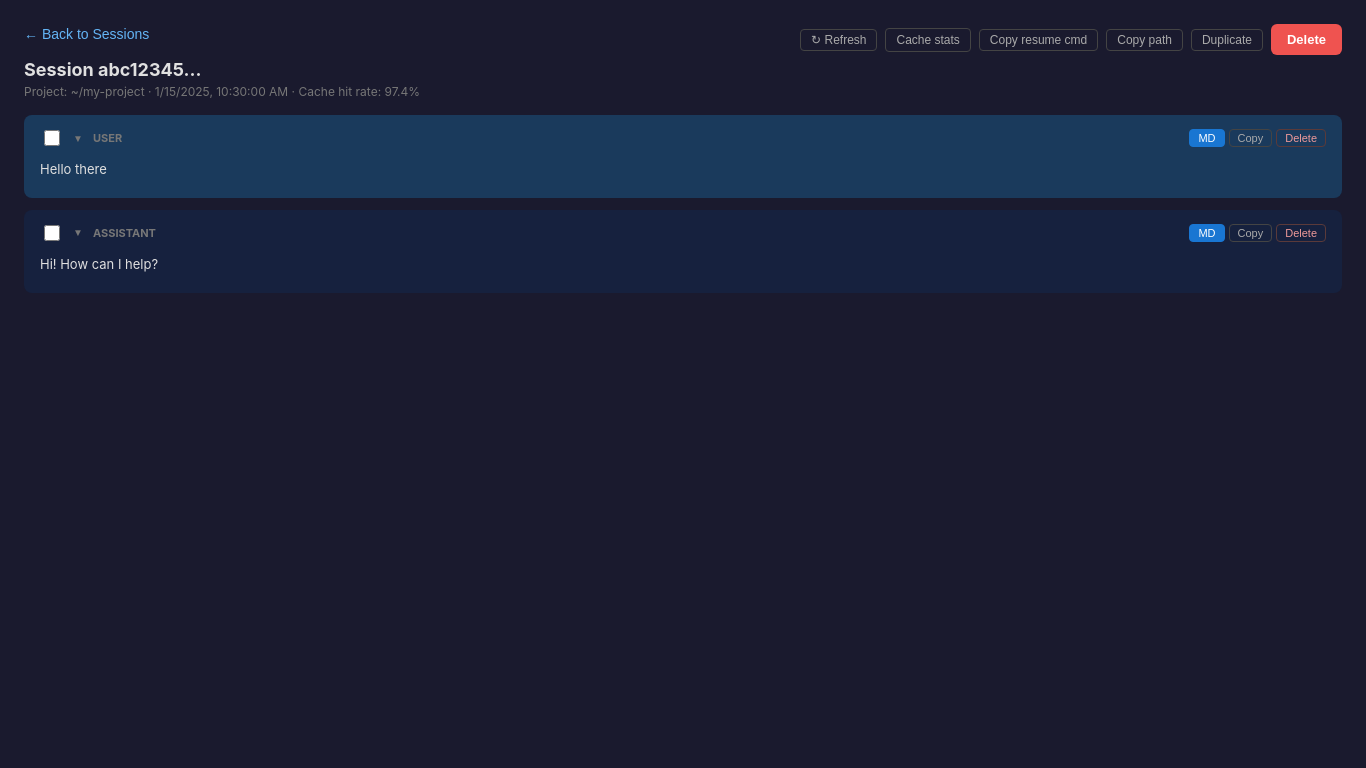
Test: SessionDetail › cache stats panel › reveals figure and table on button click and hides them on a second click
The image size is (1366, 768).
Click the button "Cache stats": (928, 40) x1=886 y1=28 x2=971 y2=52
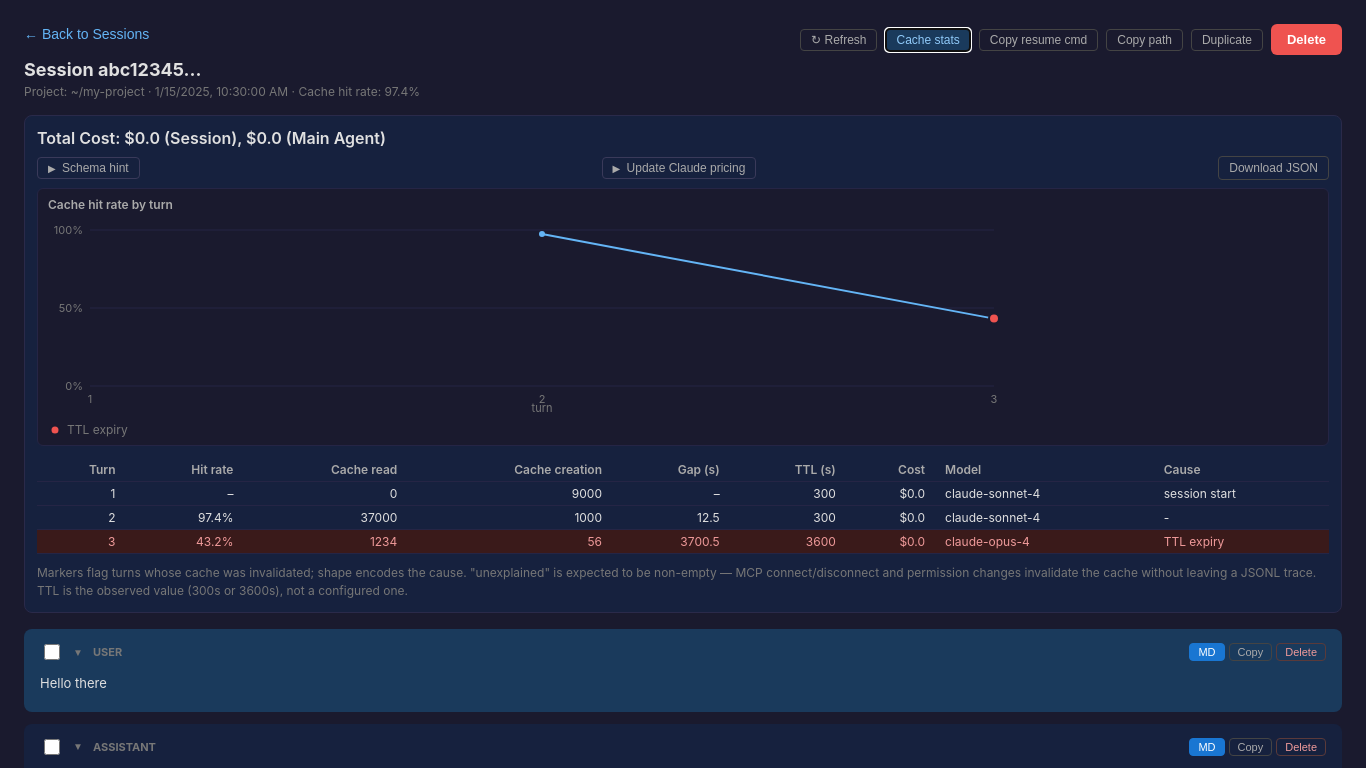
Now the element named "Per-turn cache stats" is shown
Now the table is shown, box x1=37 y1=458 x2=1329 y2=554
Now the picture is shown, box x1=48 y1=216 x2=1008 y2=416
Click the button "Cache stats": (928, 40) x1=886 y1=28 x2=971 y2=52
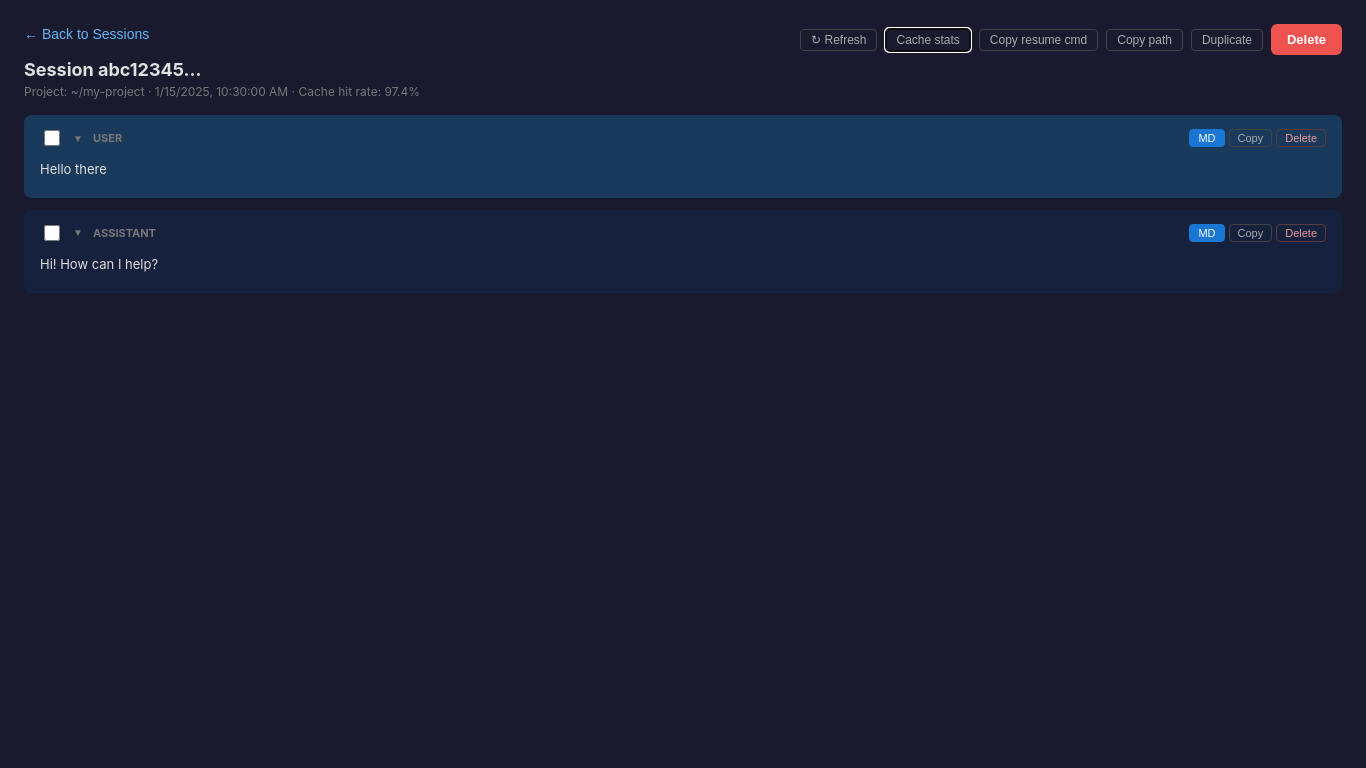
Now the button "Cache stats" is collapsed, box x1=886 y1=28 x2=971 y2=52
